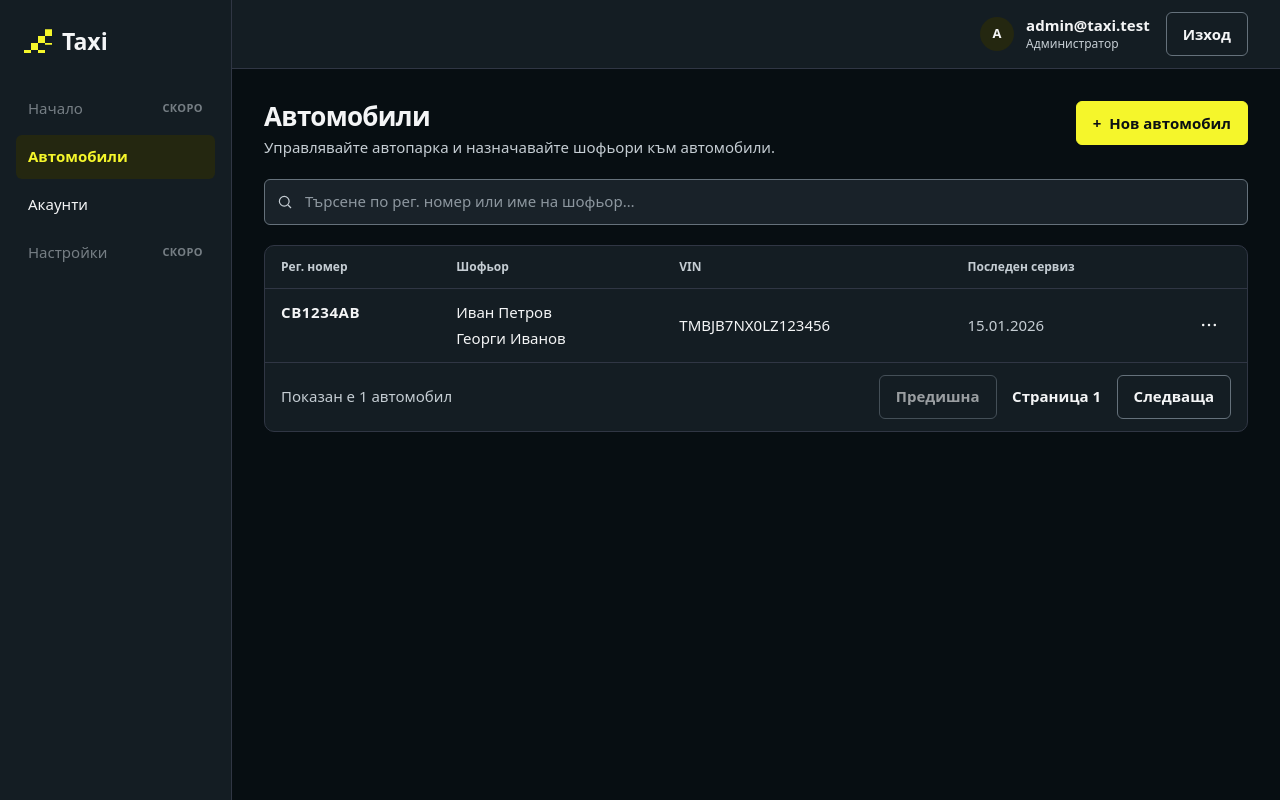
it: CarsPage (mocked car port, not live integration) › pages forward only while the API reports another page
Expected: the column heading "CB1234AB" is shown, [265, 289, 440, 335]
Expected: the button "Предишна" is disabled, [879, 375, 997, 419]
Click the button "Следваща": {"x": 1174, "y": 397} [1117, 375, 1231, 419]
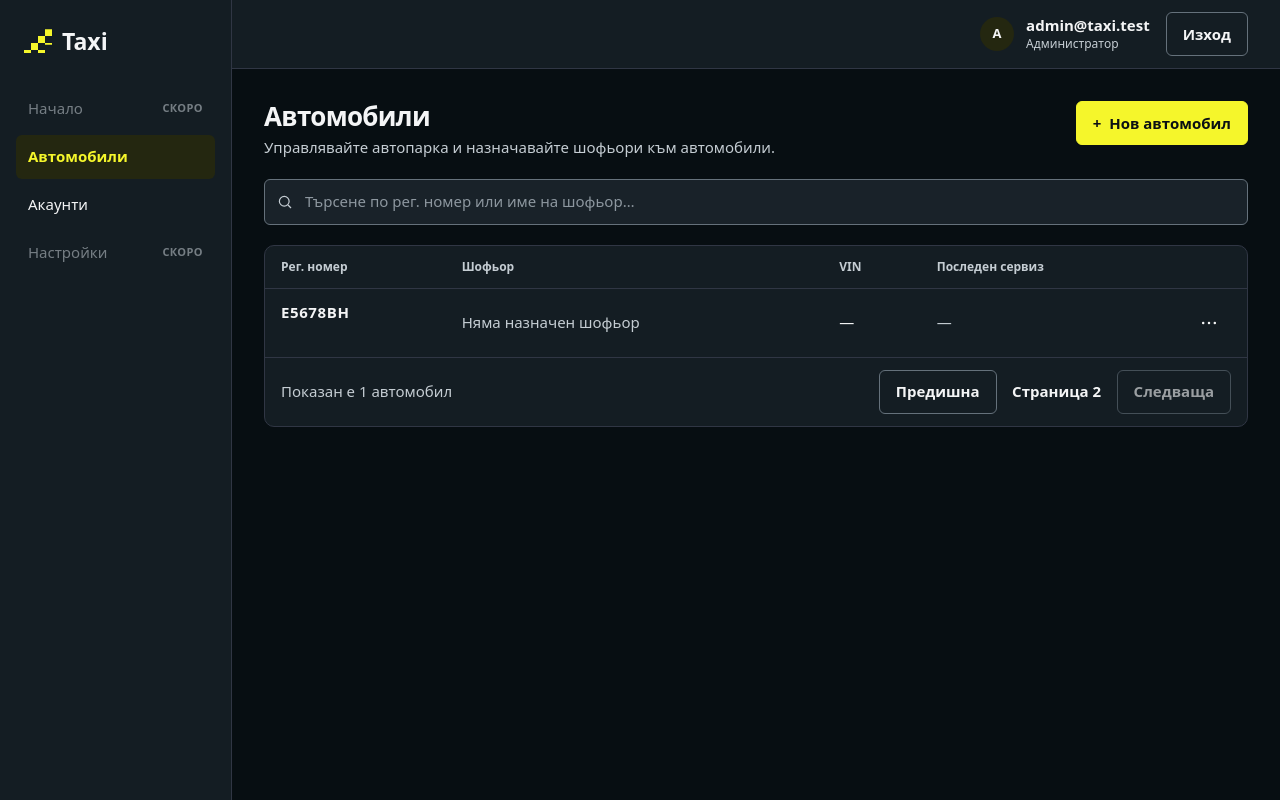
Expected: the column heading "E5678BH" is shown, [265, 289, 446, 335]
Expected: the button "Следваща" is disabled, [1117, 370, 1231, 414]
